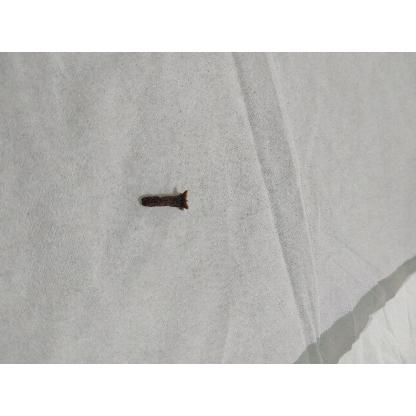buruk: (139, 191, 189, 211)
